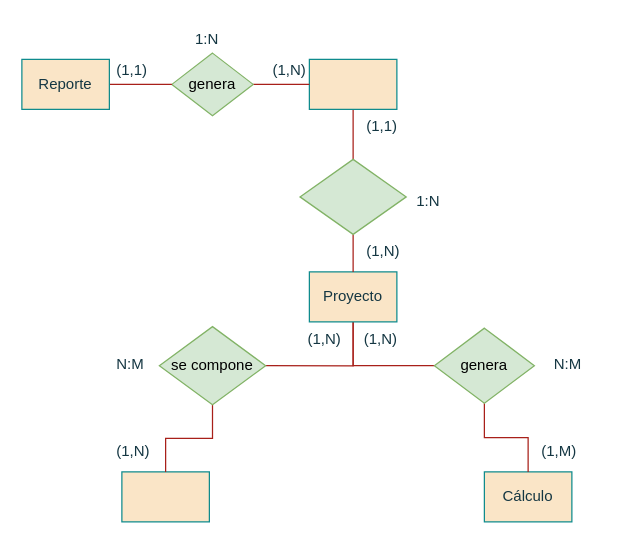
Some shapes in this 619 by 544 pixel diagram are drawn without their labels. Each missing label, with the centre of its shape:
le pertenece: point (352, 196)
Panel: point (165, 496)
Usuario: point (352, 83)
